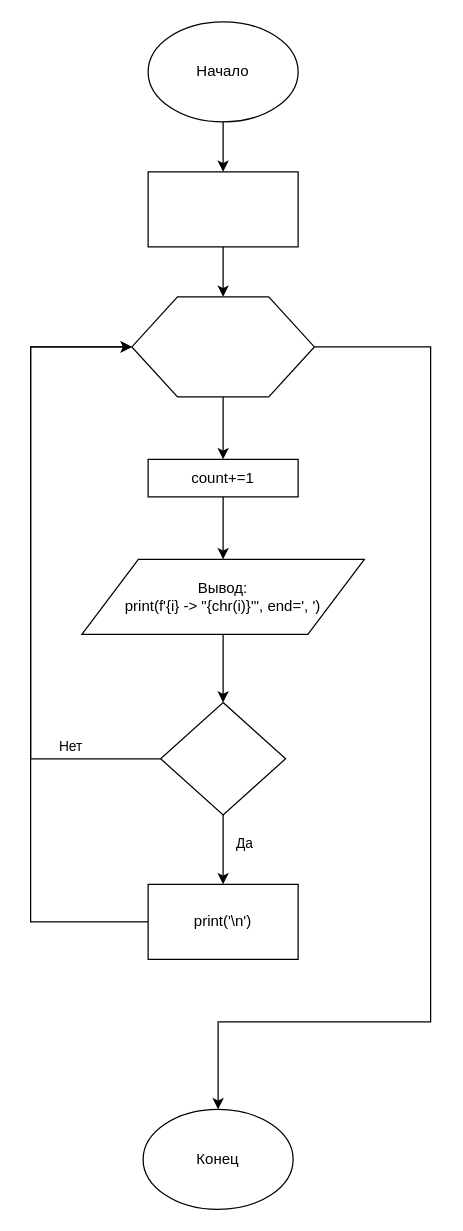
The diagram is 463 pixels wide and 1231 high, and some of its shapes have lost their labels. The shapes that lost their labels are listed below. From the top down, each one's box as (x1, y1, x2, y2) in pixels, then its label:
(147, 171, 298, 247): count = 0
(131, 296, 314, 397): for i in range(32,128)
(159, 701, 286, 815): not count%10
